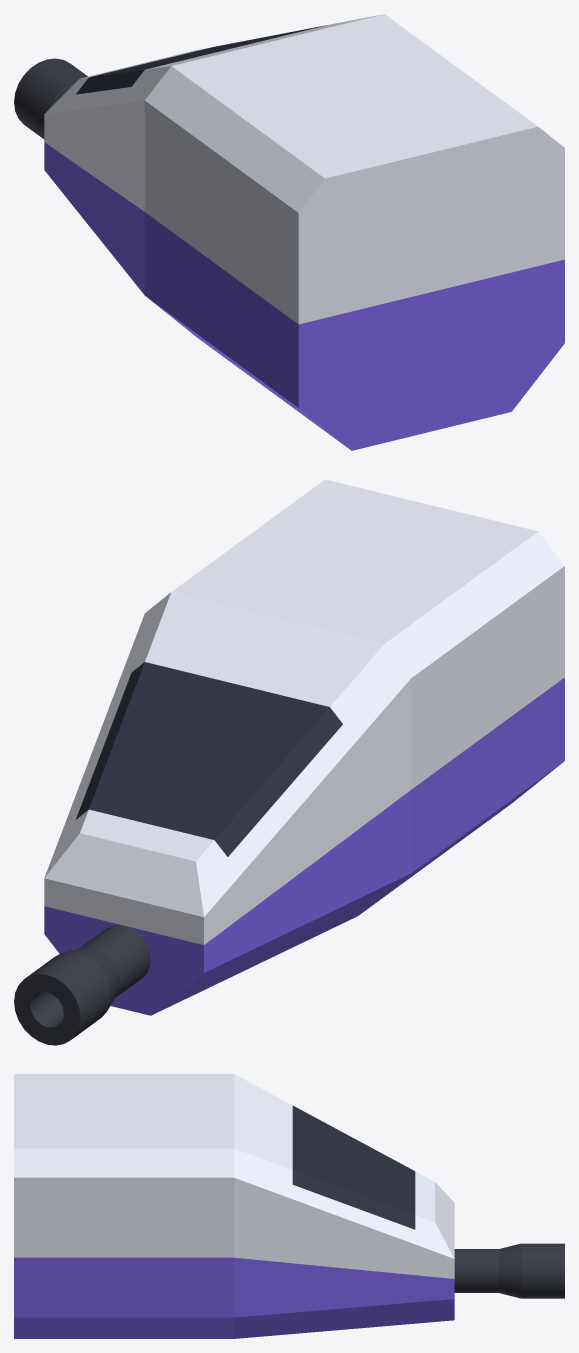
The model's file is player_ship.glb.
3 renders of one model, top to bottom at view 1: azimuth 30°, elevation 25°; view 2: azimuth 150°, elevation 25°; view 3: azimuth 270°, elevation 25°, orthographic. The views are drawn at different scales.
Parts seen in each view (by area): view 1: hull_body, hull_cockpitPoint, attachment_barrelEnd; view 2: hull_cockpitPoint, hull_body, attachment_barrelEnd; view 3: hull_body, hull_cockpitPoint, attachment_barrelEnd.
Boxes of the visible parts, box(x1,y1,x2,y2) form: hull_body: box(144, 14, 564, 450); hull_cockpitPoint: box(44, 15, 379, 294); attachment_barrelEnd: box(14, 58, 87, 139); hull_cockpitPoint: box(44, 592, 411, 1015); hull_body: box(172, 479, 564, 913); attachment_barrelEnd: box(14, 925, 150, 1045); hull_body: box(14, 1074, 234, 1338); hull_cockpitPoint: box(234, 1074, 454, 1338); attachment_barrelEnd: box(454, 1243, 564, 1298).
Bounding box in the file's own units: 1 × 1 × 2.5.
